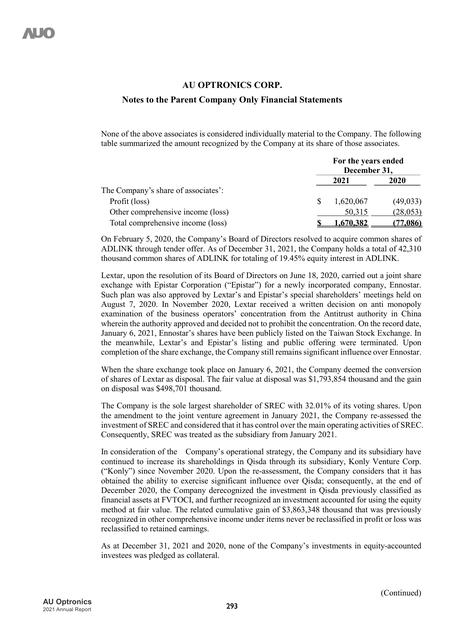box: (99, 153, 424, 231)
